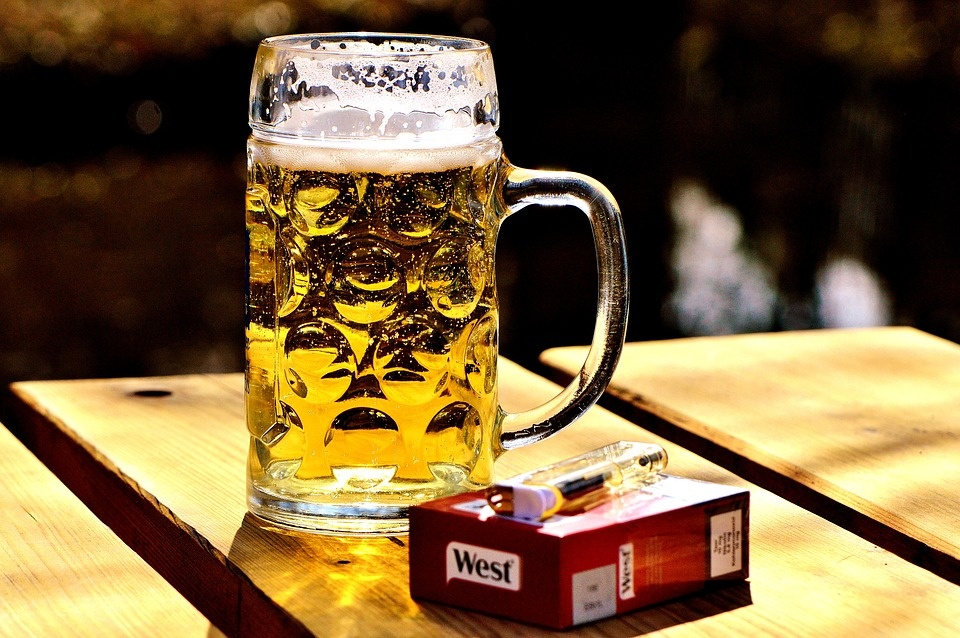glassBeer: (235, 37, 596, 536)
